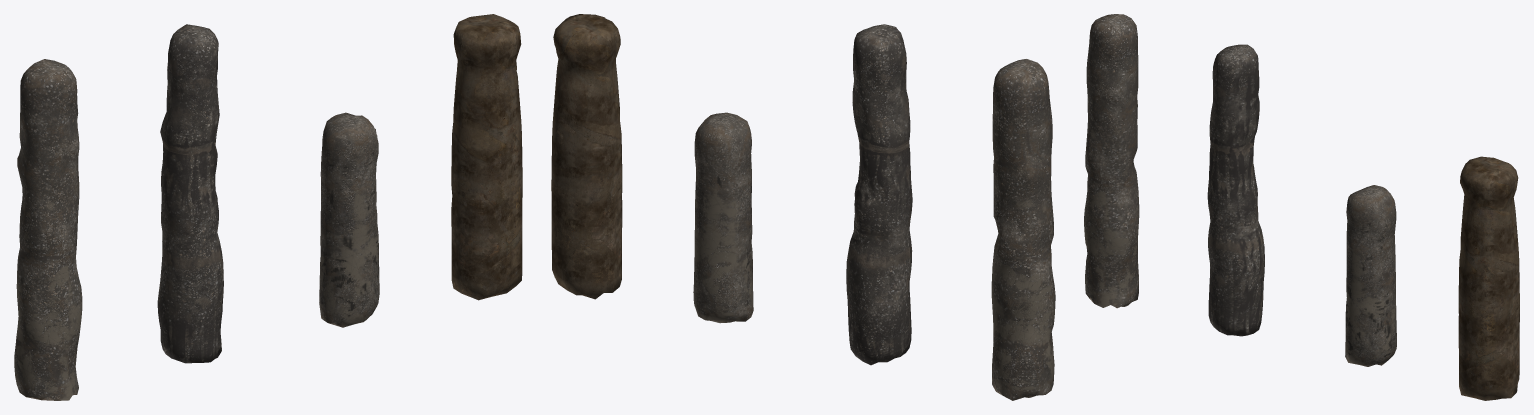
The model's file is broken_medieval_column_set.glb.
3 renders of one model, left to right at view 1: azimuth 30°, elevation 25°; view 2: azimuth 150°, elevation 25°; view 3: azimuth 330°, elevation 25°, orthographic. The views are drawn at different scales.
Parts seen in each view (by area): view 1: round pillar 2 low, round pillar 4 low, round pillar low, rpund pillar3 low; view 2: round pillar 2 low, round pillar low, round pillar 4 low, rpund pillar3 low; view 3: round pillar 2 low, round pillar low, round pillar 4 low, rpund pillar3 low.
Part boxes in pixels (bbox=[...]): round pillar 2 low: bbox=[14, 59, 82, 400]; round pillar 4 low: bbox=[451, 14, 522, 300]; round pillar low: bbox=[157, 24, 223, 363]; rpund pillar3 low: bbox=[319, 112, 379, 327]; round pillar 2 low: bbox=[991, 59, 1055, 400]; round pillar low: bbox=[846, 24, 912, 365]; round pillar 4 low: bbox=[551, 14, 622, 299]; rpund pillar3 low: bbox=[693, 112, 753, 323]; round pillar 2 low: bbox=[1084, 14, 1139, 308]; round pillar low: bbox=[1207, 44, 1264, 336]; round pillar 4 low: bbox=[1458, 156, 1519, 400]; rpund pillar3 low: bbox=[1345, 185, 1396, 366].
Size of the model in its own units: 20.89 by 13.18 by 2.56.
Materials: 4 (4 with a texture image).
